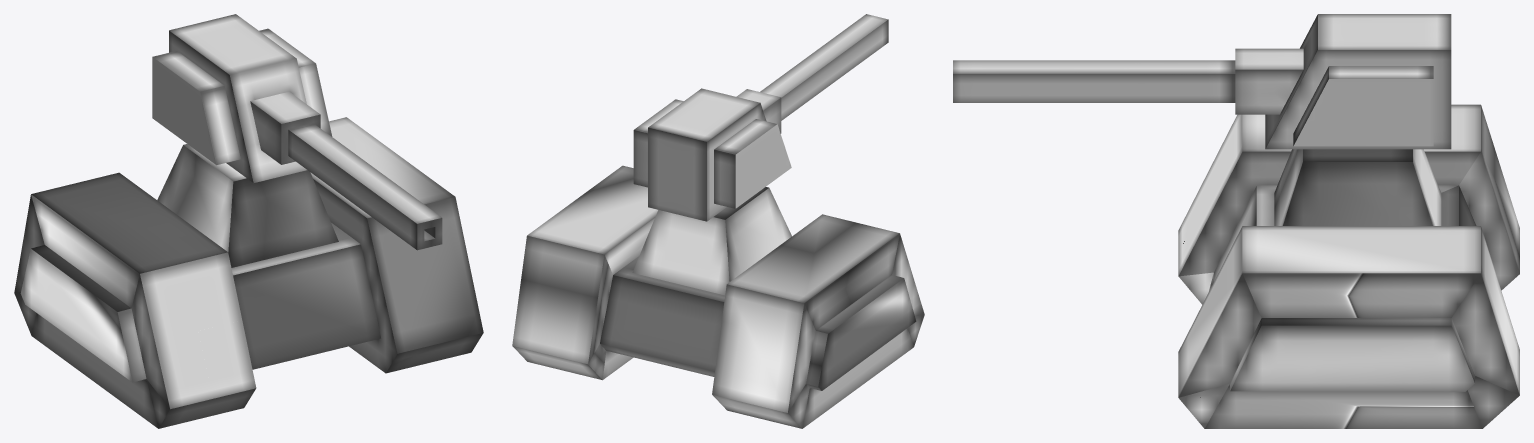
The model's file is Cannon-02.fbx.
The picture shows the model from 3 angles, left to right: view 1: azimuth 30°, elevation 25°; view 2: azimuth 150°, elevation 25°; view 3: azimuth 270°, elevation 25°; orthographic projection. The views are drawn at different scales.
Parts seen in each view (by area): view 1: Cannon_02, Cannon_02_Turrett, Cannon_02_Gun; view 2: Cannon_02, Cannon_02_Turrett, Cannon_02_Gun; view 3: Cannon_02, Cannon_02_Turrett, Cannon_02_Gun.
Part boxes in pixels (x1,y1,x2,y2): Cannon_02: [14, 117, 483, 428]; Cannon_02_Turrett: [152, 14, 332, 182]; Cannon_02_Gun: [250, 91, 442, 250]; Cannon_02: [512, 165, 924, 428]; Cannon_02_Turrett: [633, 88, 791, 221]; Cannon_02_Gun: [736, 14, 888, 133]; Cannon_02: [1178, 104, 1519, 428]; Cannon_02_Turrett: [1265, 14, 1451, 149]; Cannon_02_Gun: [953, 48, 1303, 114].
Size of the model in its own units: 0.4916 by 0.3922 by 0.6429.
